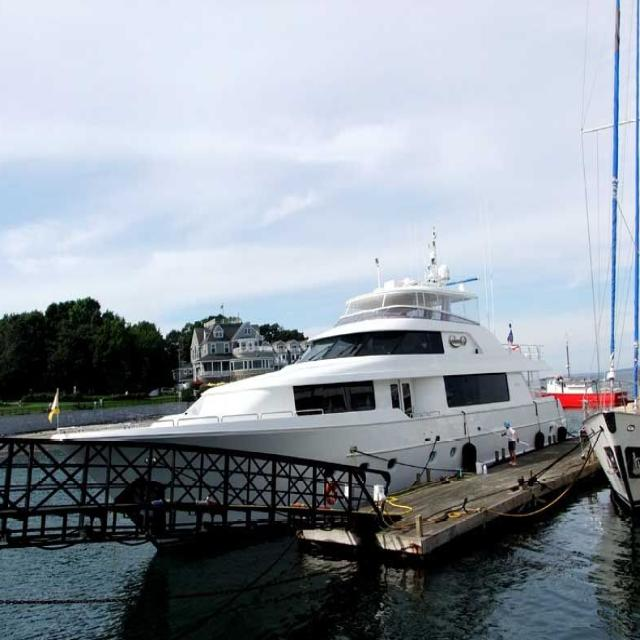houseboat: (44, 265, 560, 524)
